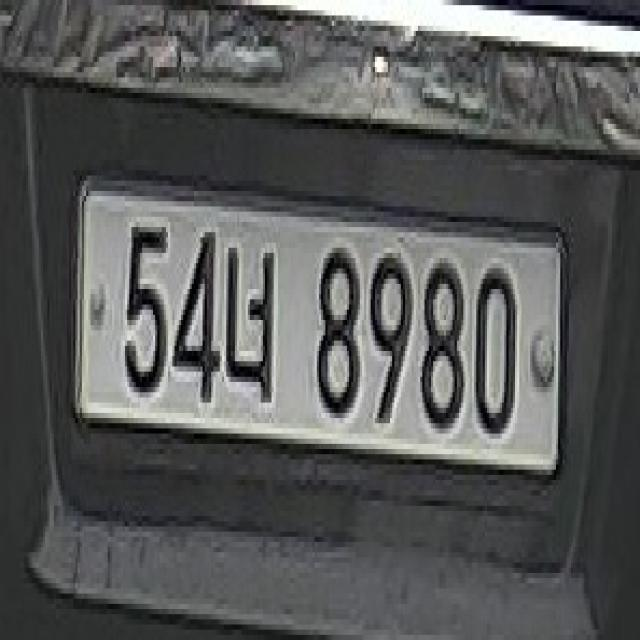0: (466, 238, 522, 464)
4: (172, 212, 230, 413)
5: (121, 206, 172, 413)
8: (315, 212, 362, 459), (418, 232, 470, 449)
9: (364, 237, 414, 449)
license_plate: (69, 155, 569, 542)
neo: (220, 222, 286, 413)
